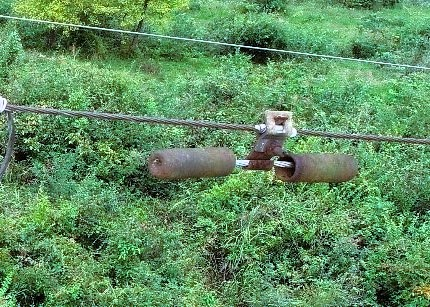Shockproof hammer: (148, 108, 361, 189)
